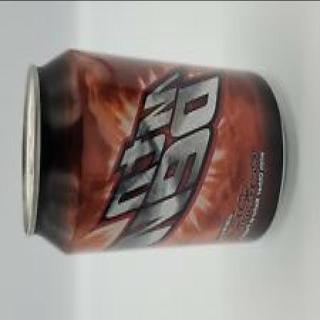Anorganik: (14, 47, 296, 271)
